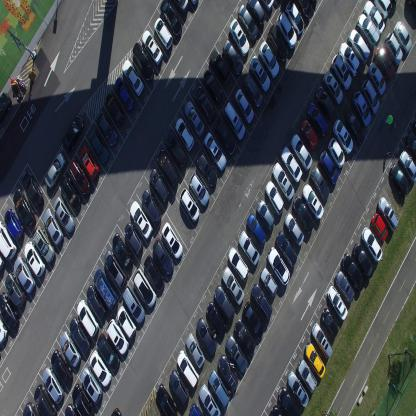car: (93, 268, 118, 310), (12, 188, 36, 229), (129, 199, 152, 241), (131, 41, 154, 83), (203, 132, 227, 172), (122, 285, 146, 325), (267, 246, 291, 286), (95, 109, 118, 150), (133, 269, 157, 308), (96, 333, 120, 372), (289, 133, 313, 172), (223, 100, 245, 142), (222, 266, 245, 306), (103, 249, 126, 289), (159, 0, 182, 39), (13, 256, 36, 295), (41, 366, 64, 405), (160, 223, 184, 260), (310, 321, 334, 358), (226, 334, 248, 374), (248, 54, 270, 94), (176, 350, 198, 390), (121, 58, 144, 96), (68, 159, 91, 197), (76, 299, 99, 337), (89, 349, 112, 387), (31, 226, 55, 262), (208, 369, 229, 410), (243, 300, 265, 339), (156, 150, 178, 189), (272, 162, 294, 201), (107, 318, 130, 355), (193, 85, 216, 122), (50, 349, 73, 386), (338, 41, 361, 78), (356, 12, 379, 49), (341, 253, 364, 290), (276, 10, 297, 50), (234, 318, 256, 356), (20, 172, 42, 210), (44, 151, 66, 189), (251, 282, 273, 320), (53, 195, 75, 233), (59, 330, 81, 368), (258, 40, 280, 78), (276, 230, 298, 268), (280, 145, 302, 183), (330, 54, 352, 92), (287, 370, 309, 408), (80, 367, 103, 403), (360, 226, 383, 262), (183, 99, 204, 138), (267, 24, 288, 63), (217, 353, 238, 392), (214, 118, 236, 155), (164, 133, 186, 170), (62, 116, 84, 153), (209, 47, 231, 84), (141, 29, 163, 66), (60, 174, 82, 211), (292, 196, 314, 233), (348, 27, 370, 64), (352, 242, 374, 279), (304, 342, 326, 379), (362, 0, 385, 35), (112, 232, 132, 272), (196, 318, 217, 356), (214, 285, 235, 323), (86, 284, 107, 322), (228, 18, 249, 56), (42, 207, 63, 245), (69, 316, 90, 354), (152, 239, 174, 275), (143, 256, 165, 292), (23, 241, 45, 277), (302, 183, 324, 219), (223, 38, 244, 75), (237, 4, 258, 41), (314, 85, 335, 122), (4, 272, 26, 307), (306, 102, 328, 137), (389, 163, 411, 198), (377, 195, 399, 230), (34, 383, 58, 415), (169, 368, 189, 406), (206, 302, 227, 338), (228, 246, 249, 282), (239, 230, 260, 266), (179, 186, 200, 222), (332, 118, 353, 154), (327, 284, 348, 320), (234, 87, 254, 124), (285, 0, 305, 37), (185, 333, 205, 370), (310, 165, 330, 202), (345, 108, 365, 145), (72, 383, 95, 415), (155, 383, 178, 415), (198, 383, 221, 415), (374, 45, 395, 80), (141, 188, 161, 224), (149, 167, 169, 203), (0, 291, 18, 331), (243, 72, 263, 108), (323, 69, 343, 105), (246, 213, 267, 247), (188, 173, 209, 207), (335, 270, 356, 304), (105, 90, 124, 127), (79, 144, 98, 181), (352, 90, 371, 127), (196, 152, 216, 187), (114, 76, 134, 111), (174, 116, 194, 151), (203, 67, 223, 102), (153, 16, 173, 51), (284, 212, 304, 247), (265, 180, 284, 216), (4, 208, 24, 242), (0, 219, 17, 259), (318, 150, 338, 184), (297, 358, 317, 392), (278, 386, 301, 415), (362, 78, 380, 114), (393, 20, 412, 54), (367, 61, 386, 95), (384, 31, 402, 66), (256, 198, 275, 231), (124, 221, 142, 255), (320, 307, 339, 339), (260, 266, 278, 299), (300, 119, 318, 152), (118, 306, 136, 338), (400, 148, 416, 184), (246, 0, 266, 27), (328, 136, 345, 167), (371, 212, 388, 242), (294, 0, 313, 22), (404, 131, 416, 165), (372, 0, 392, 20), (172, 0, 188, 15), (22, 401, 39, 415), (0, 316, 8, 343), (259, 0, 275, 13), (64, 402, 80, 415), (189, 403, 206, 415), (269, 404, 283, 415), (110, 405, 123, 415), (187, 0, 200, 9), (0, 253, 5, 273)
